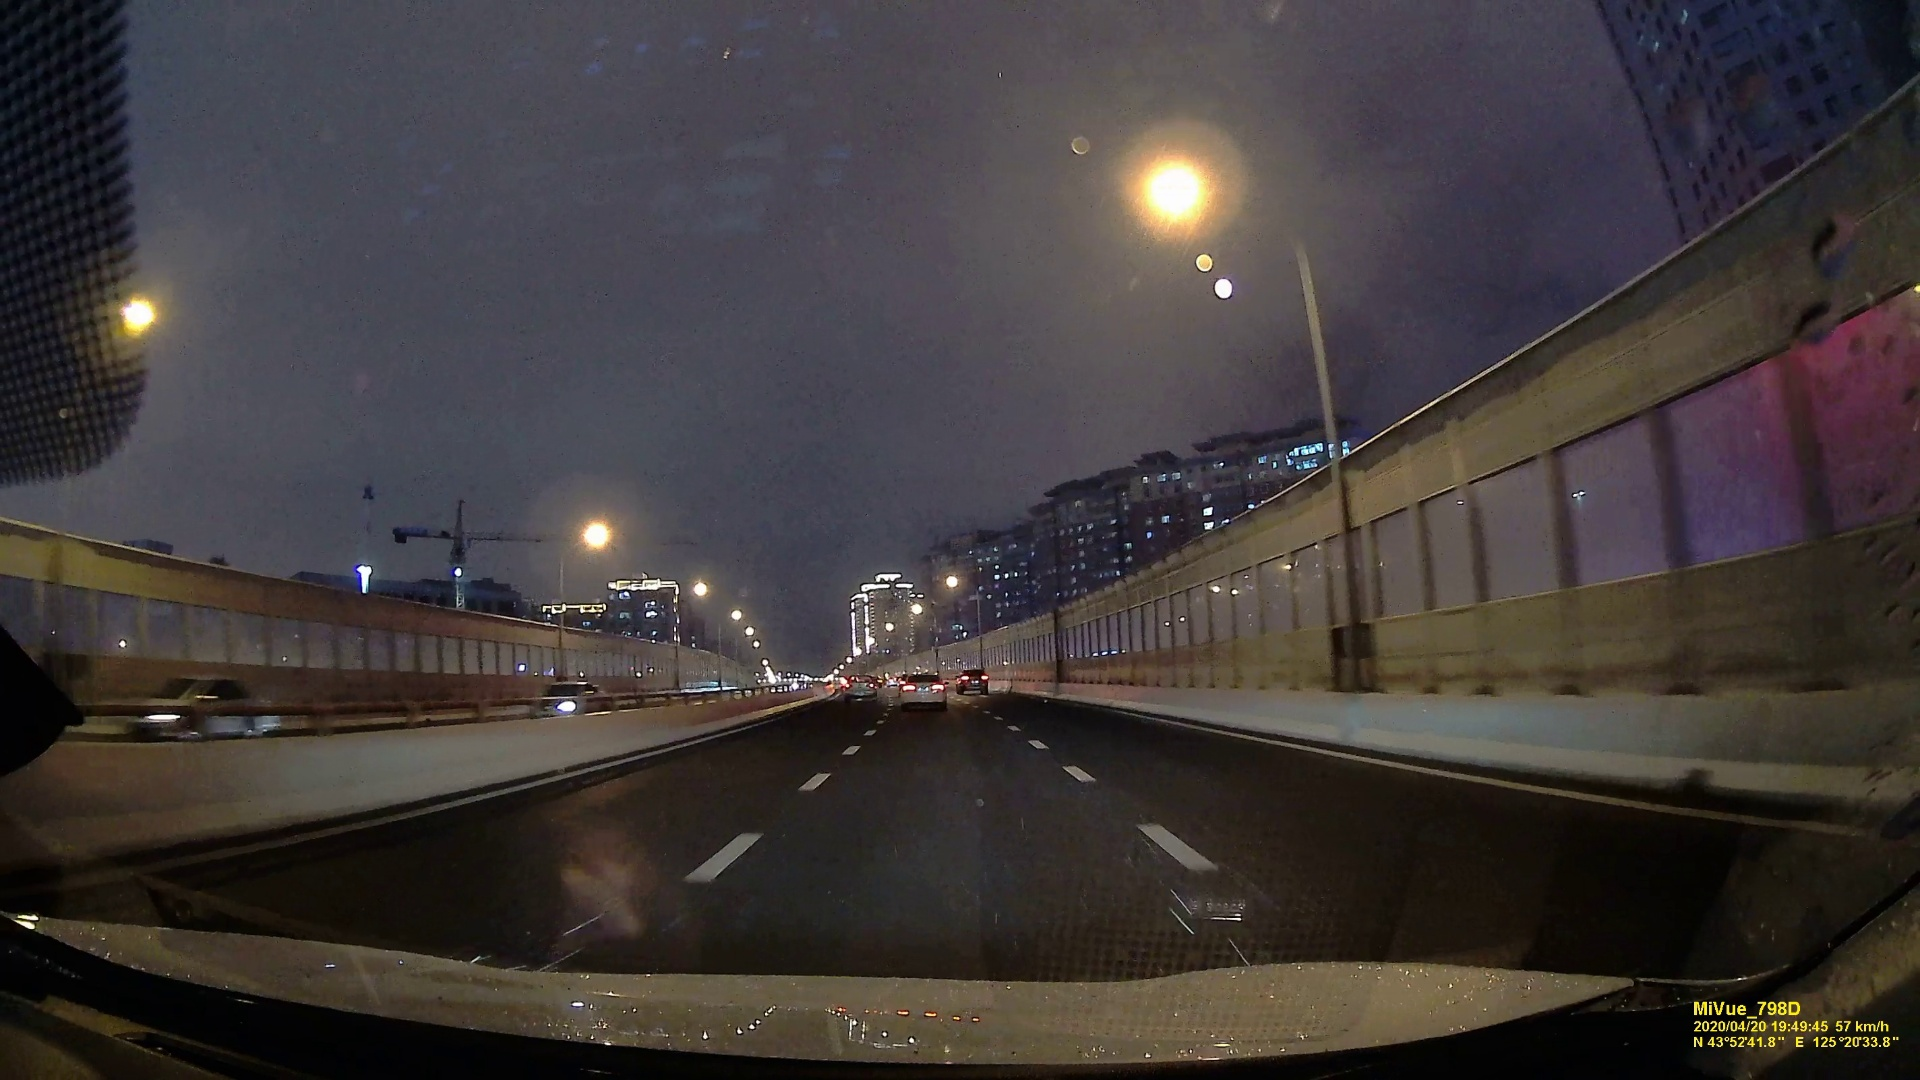vehicle: (113, 671, 273, 738), (531, 680, 611, 711), (895, 675, 945, 708), (844, 674, 876, 699), (955, 669, 986, 692)
